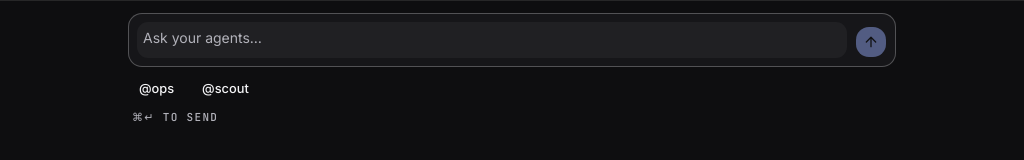
Test: Composer — addressing an agent by @handle › inserts a handle when its chip is clicked
What coordinates should you click on to do the following:
click the button "@scout"
I would click on:
 (225, 89)
Its box is [191,75,260,103].
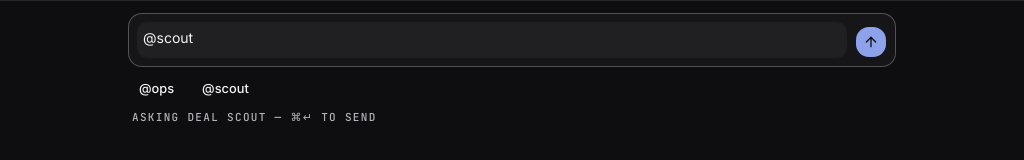
Check: the text box named "your question" holds "@scout ", box [137,22,847,58]
